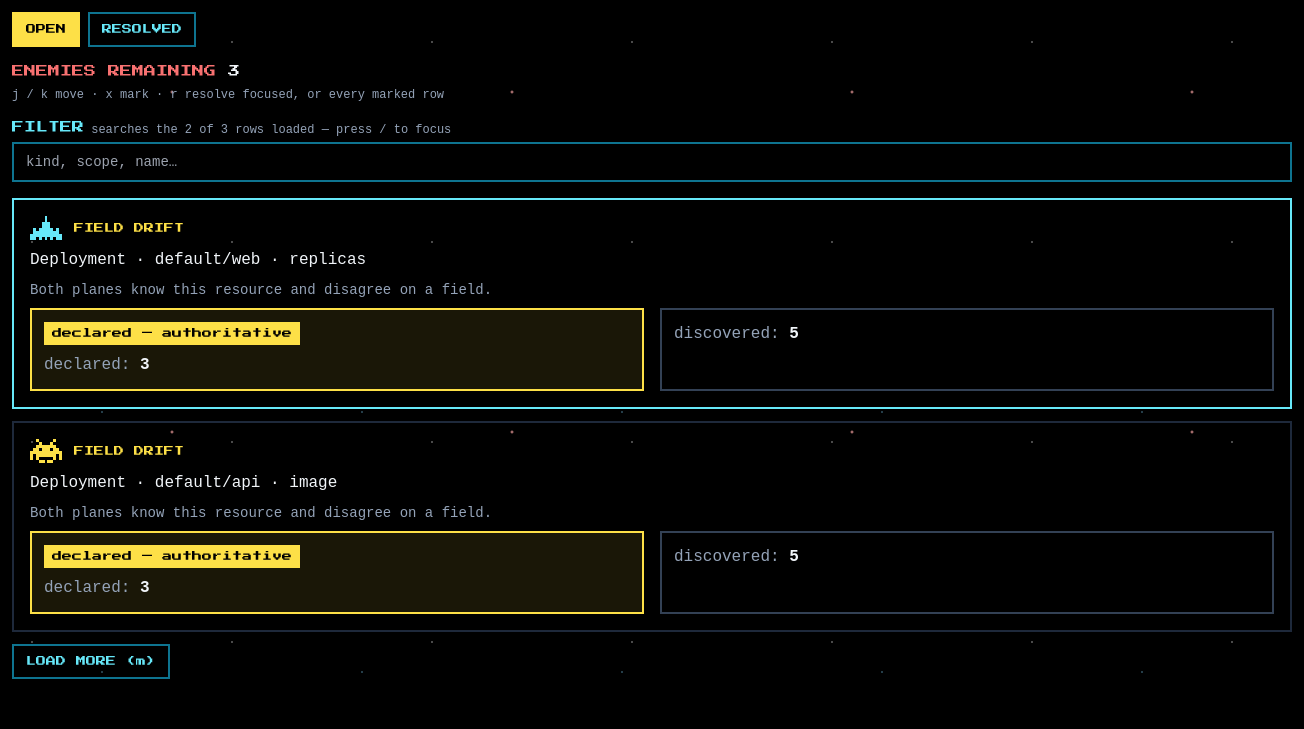
Test: load more asks for the window after the rows held, and appends it
The image size is (1304, 729).
Check: the text "replicas" is shown, box x1=289 y1=251 x2=366 y2=269
Click the button "LOAD MORE (m)": (91, 662) x1=12 y1=644 x2=170 y2=679
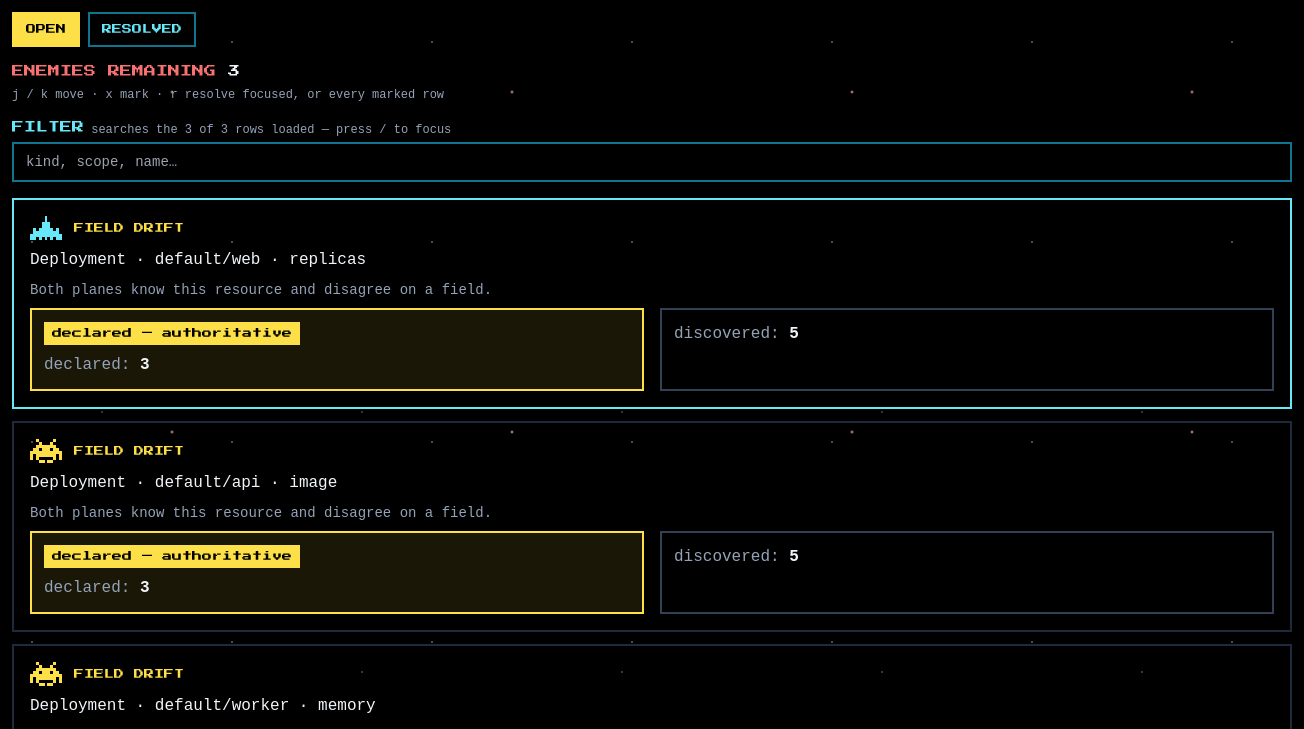
Check: the text "replicas" is shown, box x1=289 y1=251 x2=366 y2=269
Check: the text "memory" is shown, box x1=318 y1=697 x2=376 y2=715
Check: the button "LOAD MORE" is gone
